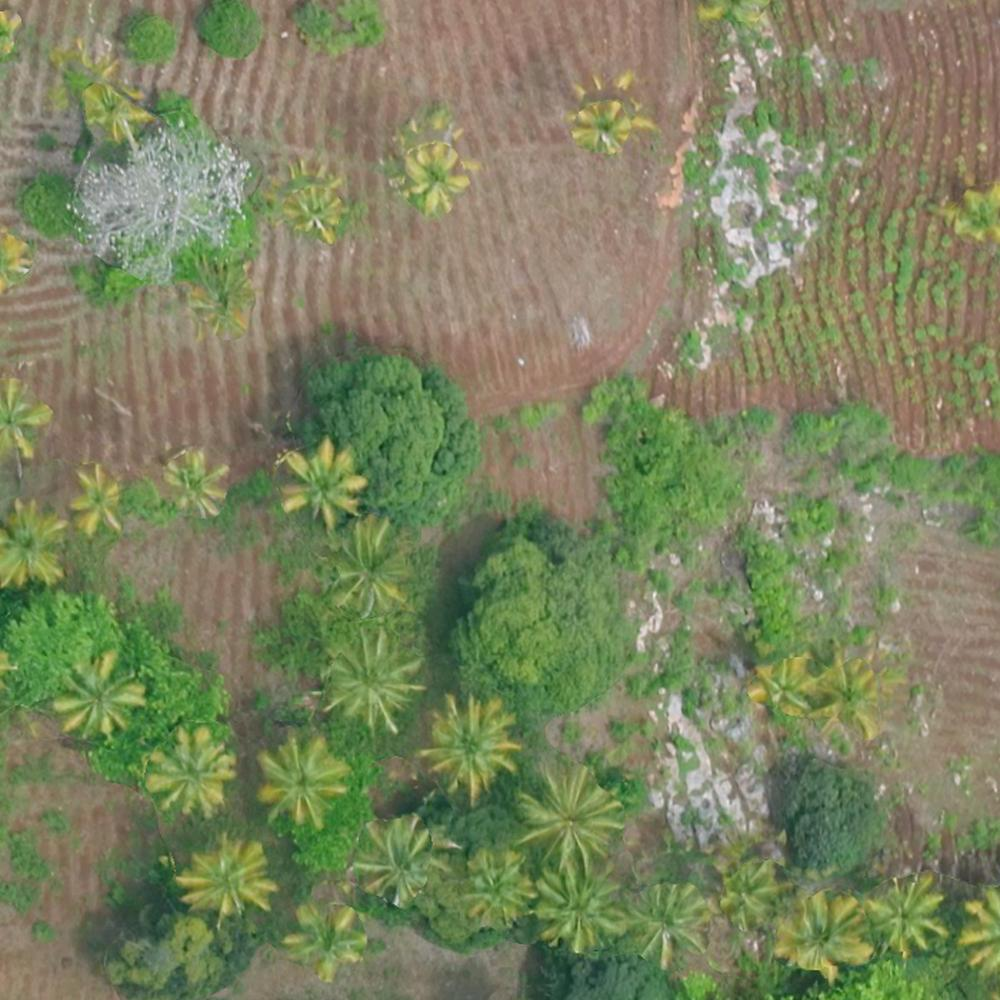Palm: (511, 764, 624, 872), (321, 630, 416, 727), (422, 694, 513, 791), (328, 518, 414, 610), (258, 735, 348, 822), (180, 834, 272, 915), (532, 871, 626, 947), (358, 822, 445, 902), (147, 729, 230, 808), (628, 879, 707, 960), (280, 443, 360, 522), (54, 652, 136, 729), (454, 851, 533, 930), (869, 876, 947, 956), (285, 904, 371, 976), (2, 504, 67, 584), (65, 464, 127, 539), (162, 451, 229, 514), (755, 654, 822, 717), (400, 142, 463, 208), (283, 186, 340, 244), (579, 96, 633, 149)
